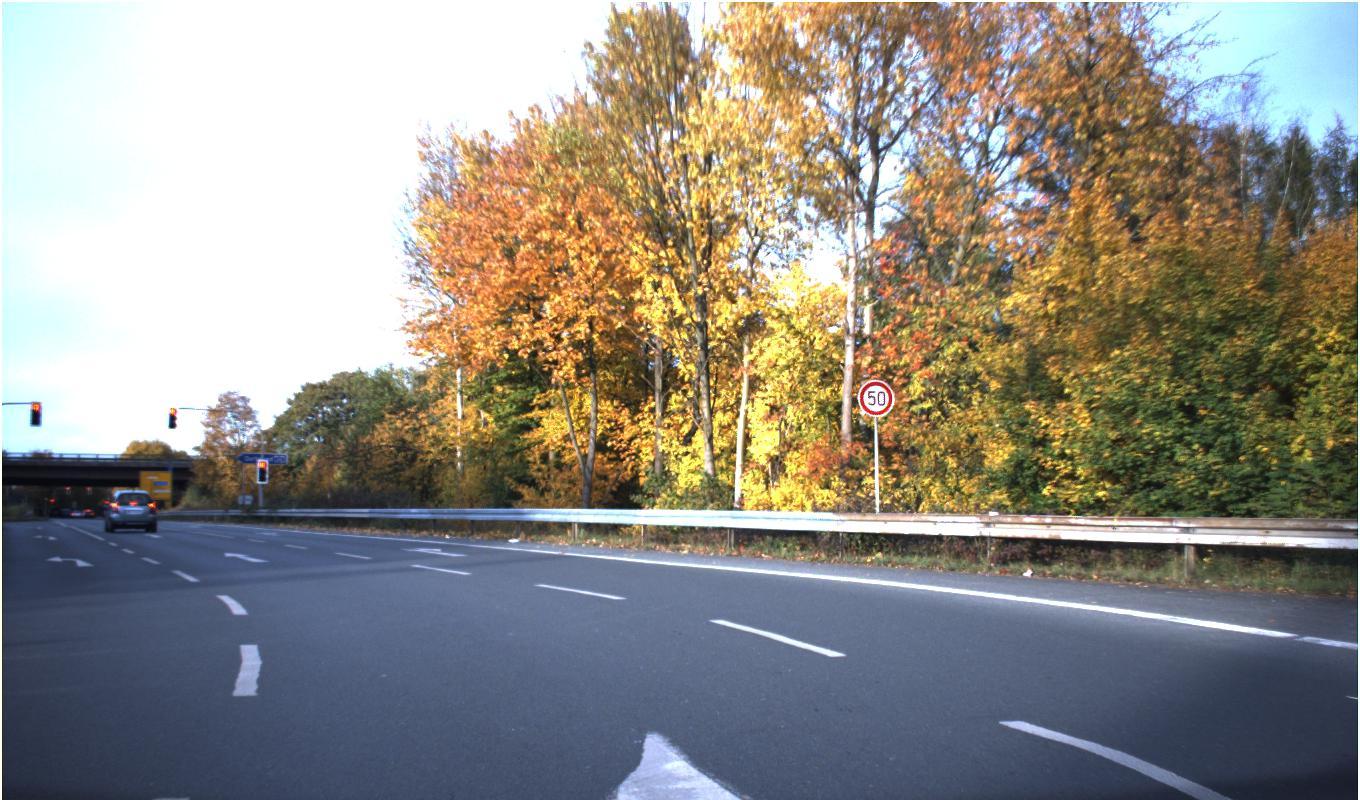prohibitory: (857, 379, 894, 416)
